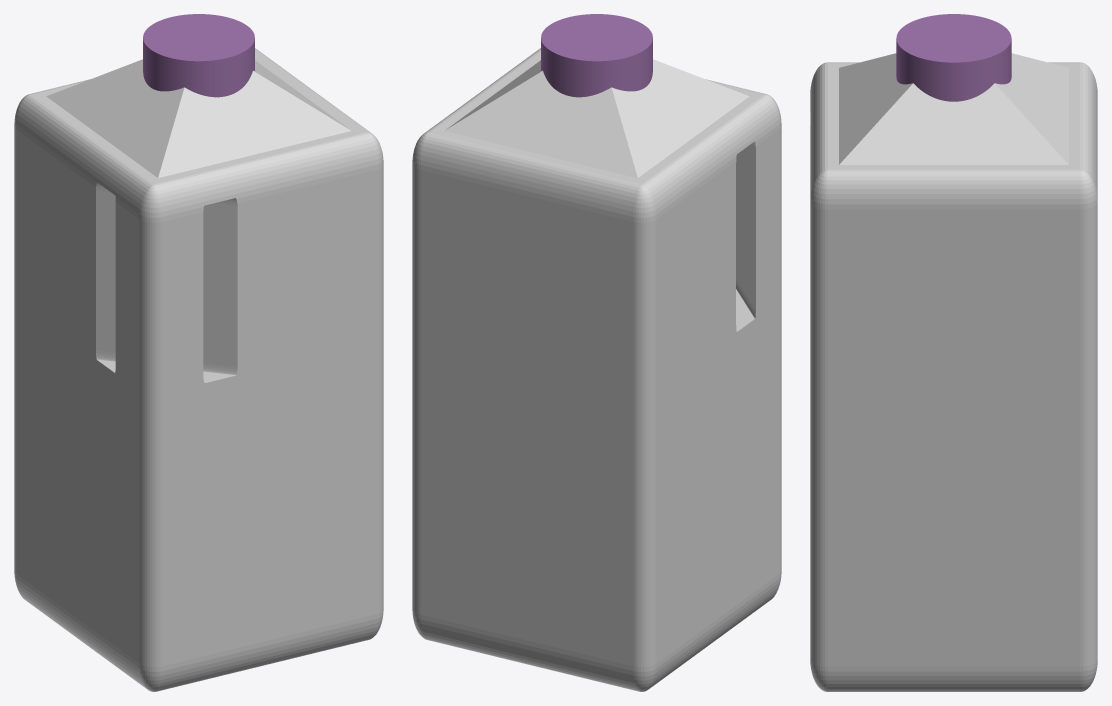
The model's file is a2 comfort milk.glb.
3 views of the same model, side by side, from view 1: azimuth 30°, elevation 25°; view 2: azimuth 150°, elevation 25°; view 3: azimuth 270°, elevation 25° (orthographic). The views are drawn at different scales.
Visible parts, largest first — view 1: Mesh_Mesh_head_geo.001_lambert2SG.001; view 2: Mesh_Mesh_head_geo.001_lambert2SG.001; view 3: Mesh_Mesh_head_geo.001_lambert2SG.001.
Part boxes in pixels (x1,y1,x2,y2): Mesh_Mesh_head_geo.001_lambert2SG.001: (14,14,383,691); Mesh_Mesh_head_geo.001_lambert2SG.001: (412,14,781,691); Mesh_Mesh_head_geo.001_lambert2SG.001: (810,14,1097,691).
Bounding box in the file's own units: 0.01 × 0.023 × 0.01.
